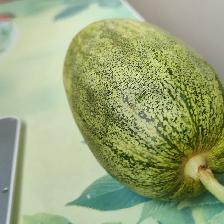gua: (80, 27, 219, 195)
